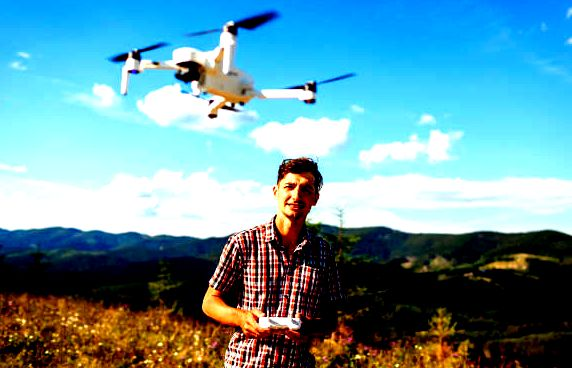Drone: (101, 8, 363, 123)
